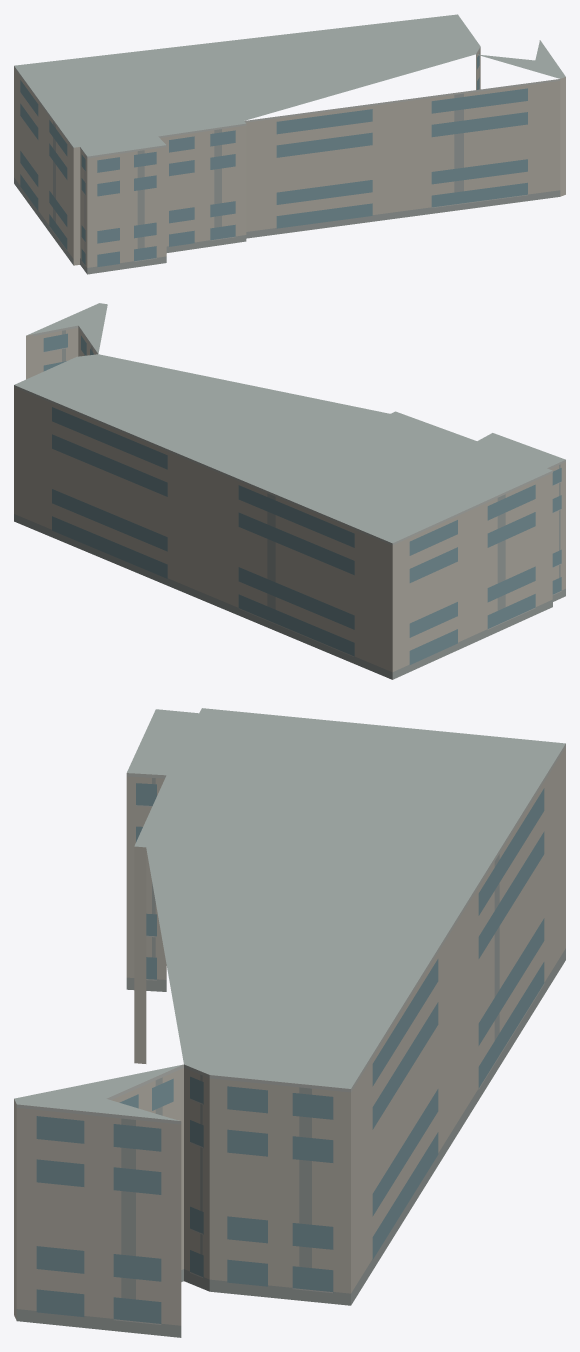
The model's file is survey-upis-33027717.glb.
3 views of the same model, one above another, from view 1: azimuth 30°, elevation 25°; view 2: azimuth 150°, elevation 25°; view 3: azimuth 270°, elevation 25° (orthographic). The views are drawn at different scales.
Visible parts, largest first — view 1: survey-upis-33027717.tmp; view 2: survey-upis-33027717.tmp; view 3: survey-upis-33027717.tmp.
Part boxes in pixels (<box>): survey-upis-33027717.tmp: <box>14,14,565,274</box>; survey-upis-33027717.tmp: <box>14,303,565,679</box>; survey-upis-33027717.tmp: <box>14,708,565,1337</box>.
Bounding box in the file's own units: 62.35 × 15.25 × 35.21.
